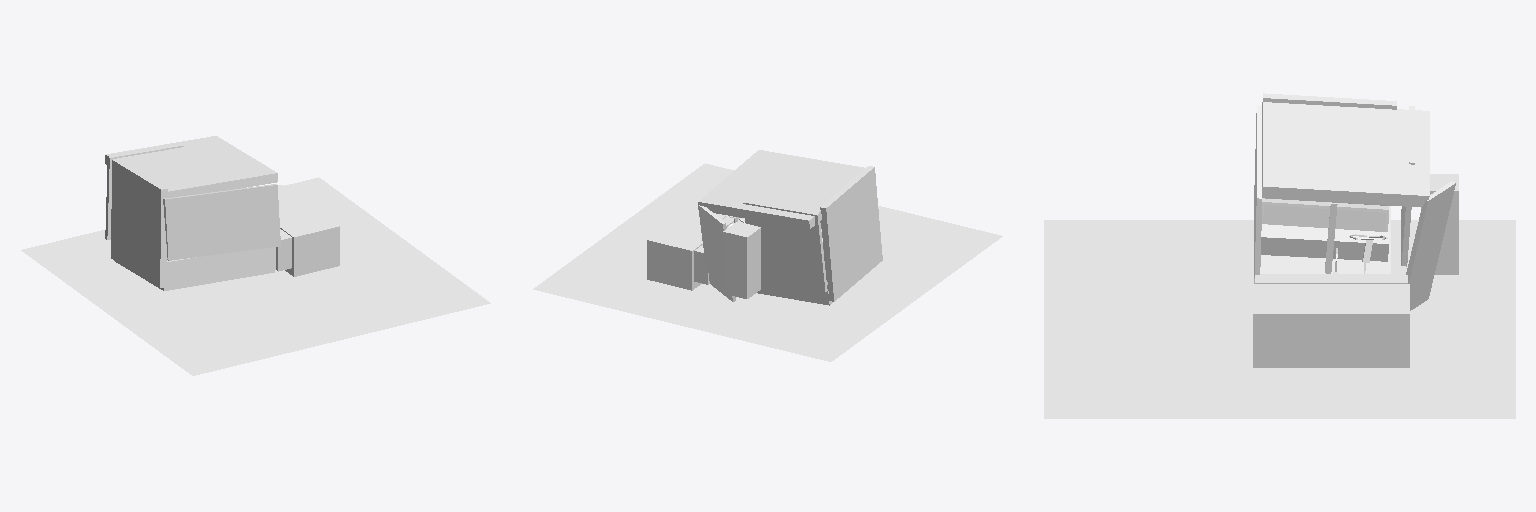
robot.urdf — truck:
<robot name="truck">
  <link name="base_link">
    <visual>
      <origin xyz="0 0 0" rpy="0 0 0" />
      <geometry>
        <mesh filename="package://hpp-rbprm-corba/meshes/truck_vision.stl"/>
      </geometry>
      <material name="white">
        <color rgba="1 1 1 1"/>
      </material>
    </visual>
    <collision>
      <origin xyz="0 0 0" rpy="0 0 0" />
      <geometry>
        <mesh filename="package://hpp-rbprm-corba/meshes/truck.stl"/>
      </geometry>
    </collision>
  </link>
</robot>

--- Render facts (derived) ---
Views: 3 orthographic renders of the robot side by side, from view 1: azimuth 30°, elevation 25°; view 2: azimuth 150°, elevation 25°; view 3: azimuth 270°, elevation 25°.
Robot: truck — 1 links, 0 joints (none); root link base_link; default pose: every joint at zero.
Links seen in each view (by area): view 1: base_link; view 2: base_link; view 3: base_link.
Link boxes in pixels (x1,y1,x2,y2): base_link: (21, 136, 490, 375); base_link: (533, 150, 1002, 361); base_link: (1044, 93, 1515, 418).
Bounding box of the posed robot: 6.15 × 6.15 × 2.38 m (x, y, z).
Meshes: 1 distinct files referenced, 1 mesh visuals loaded (1 binary STL).